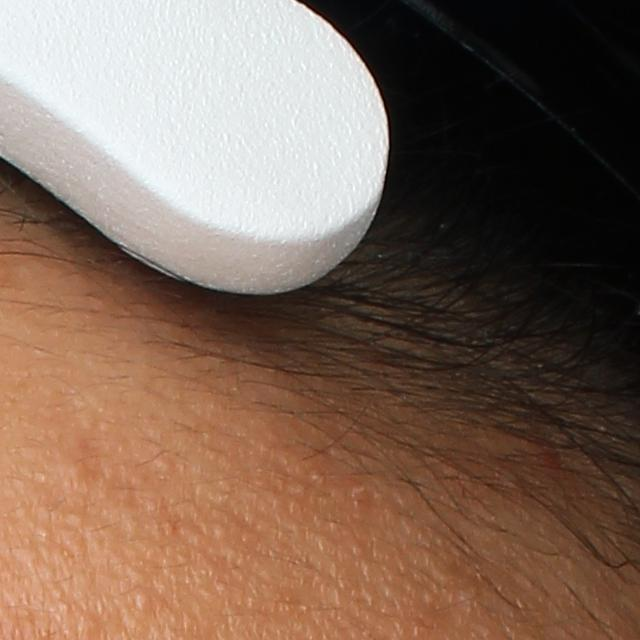comedo: (65, 456, 91, 479), (131, 589, 154, 609), (153, 455, 174, 469)
